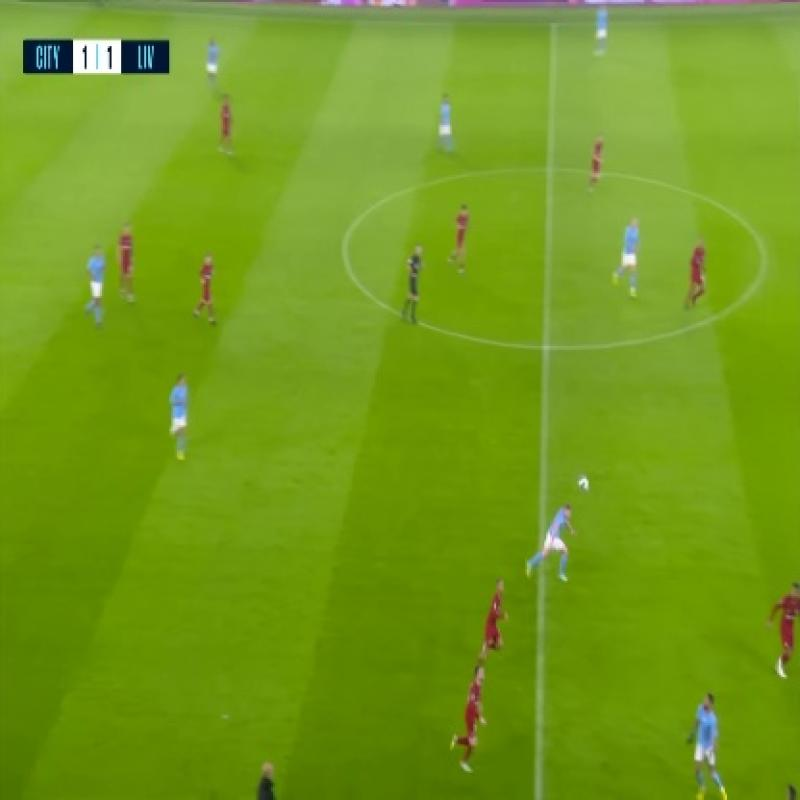13: (539, 2, 568, 46)
14: (532, 150, 568, 188)
15: (524, 323, 564, 369)
c: (322, 221, 364, 269), (748, 246, 784, 280)
